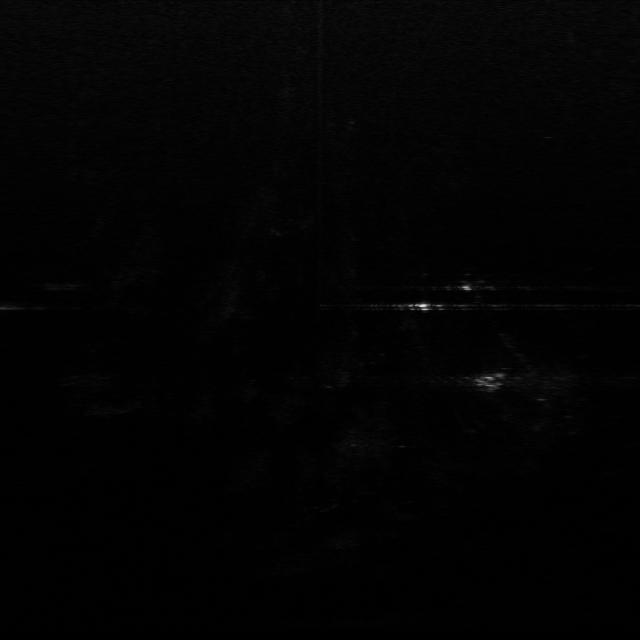rov: (470, 368, 514, 392)
